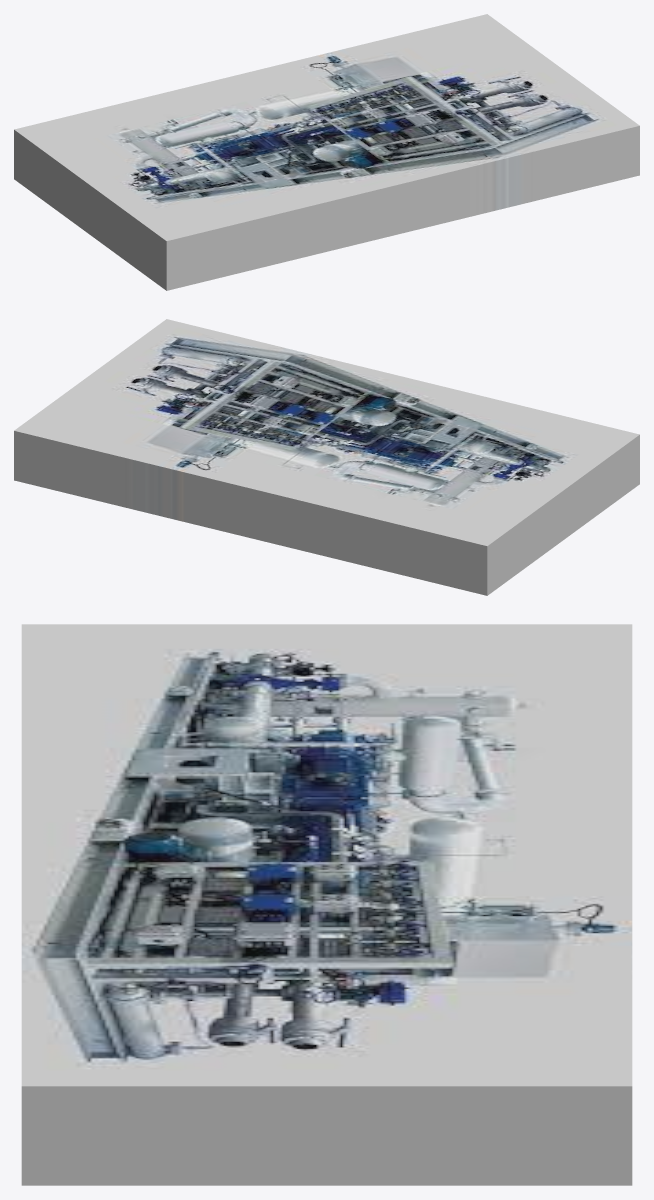
File: Compressor.glb
3 views of the same model, one above another, from view 1: azimuth 30°, elevation 25°; view 2: azimuth 150°, elevation 25°; view 3: azimuth 270°, elevation 25° (orthographic). The views are drawn at different scales.
Bounding box in the file's own units: 0.0759 × 0.00762 × 0.0424.
Materials: 1 (1 with a texture image).
